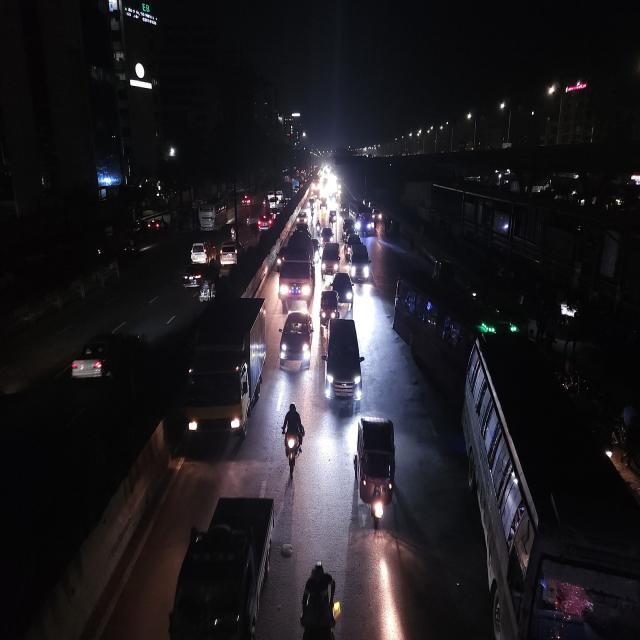bus: (463, 329, 638, 640), (392, 268, 489, 391), (196, 197, 228, 232), (356, 205, 376, 236)
car: (68, 322, 148, 390), (322, 315, 363, 413), (277, 307, 315, 373), (345, 233, 372, 283), (333, 269, 353, 308), (320, 241, 340, 279), (218, 239, 242, 268), (181, 263, 203, 288), (189, 240, 210, 266), (256, 215, 272, 232), (321, 224, 333, 244), (295, 210, 309, 227)
cng: (353, 412, 399, 533), (320, 288, 338, 330), (432, 257, 454, 283), (342, 218, 354, 239), (328, 210, 337, 227)
motorcycle: (280, 400, 306, 480), (245, 214, 252, 228)
pedestrian: (407, 234, 417, 254)
pickup_van: (166, 484, 275, 640)
truck: (185, 294, 268, 442), (276, 229, 317, 312)
